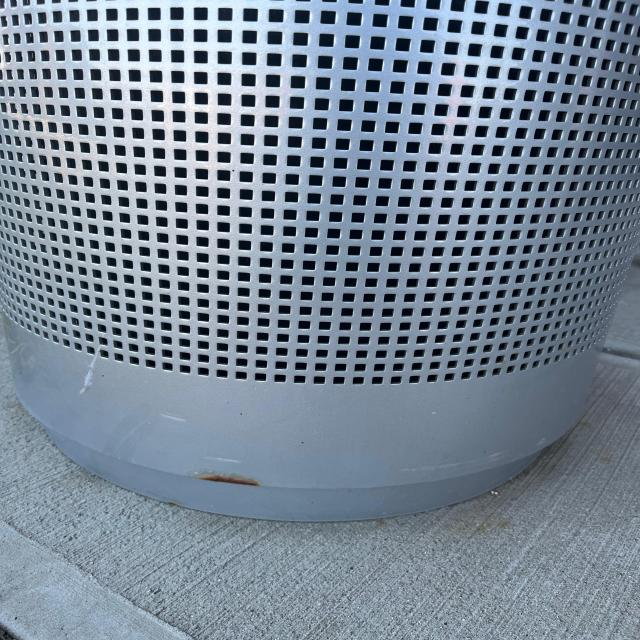Filiform Corrosion: (194, 475, 260, 487)
